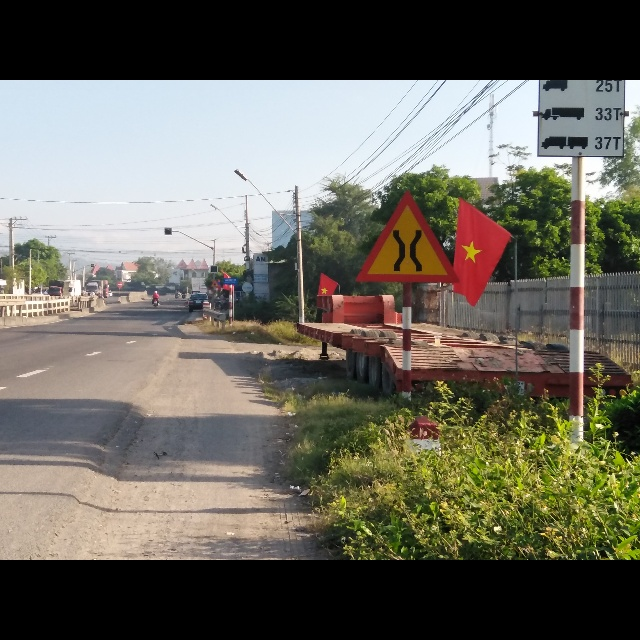Cầu hẹp: (354, 190, 459, 283)
